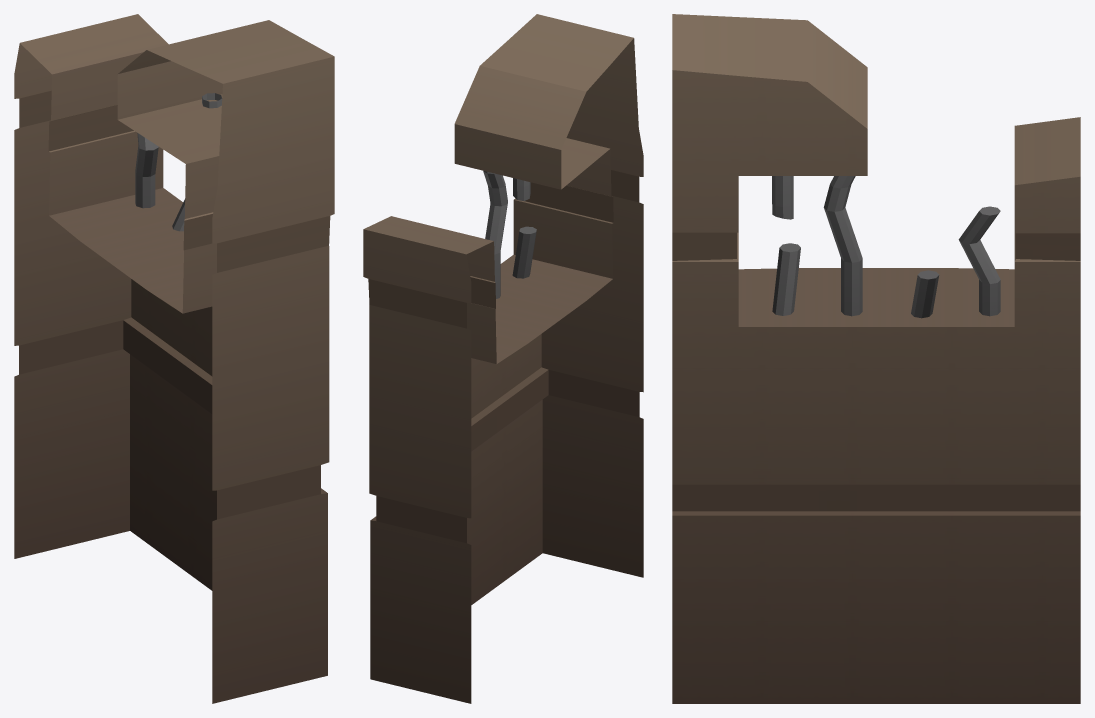
The model's file is Pared con ventana rota.fbx.
3 renders of one model, left to right at view 1: azimuth 30°, elevation 25°; view 2: azimuth 150°, elevation 25°; view 3: azimuth 270°, elevation 25°, orthographic. The views are drawn at different scales.
Parts seen in each view (by area): view 1: ParedMedia.005, Cylinder.004; view 2: ParedMedia.005, Cylinder.004; view 3: ParedMedia.005, Cylinder.004.
Boxes of the visible parts, x1=… form: ParedMedia.005: x1=14, y1=14, x2=334, y2=703; Cylinder.004: x1=135, y1=93, x2=222, y2=231; ParedMedia.005: x1=363, y1=14, x2=643, y2=703; Cylinder.004: x1=483, y1=171, x2=536, y2=298; ParedMedia.005: x1=672, y1=14, x2=1080, y2=703; Cylinder.004: x1=772, y1=176, x2=1000, y2=318.
Size of the model in its own units: 231 by 1019 by 592.
